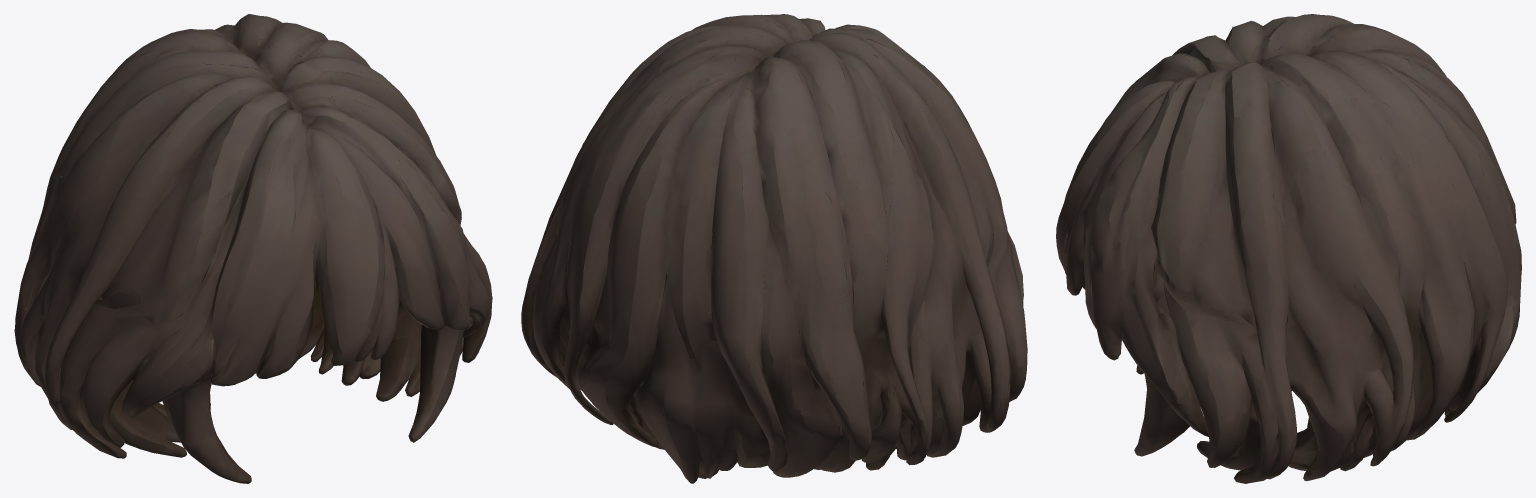
File: hair_f02.glb
3 views of the same model, side by side, from view 1: azimuth 30°, elevation 25°; view 2: azimuth 150°, elevation 25°; view 3: azimuth 270°, elevation 25° (orthographic). The views are drawn at different scales.
Parts seen in each view (by area): view 1: hair; view 2: hair; view 3: hair.
Part boxes in pixels (<box>): hair: <box>14,14,492,483</box>; hair: <box>521,14,1027,483</box>; hair: <box>1056,14,1521,483</box>.
Size of the model in its own units: 2.63 by 2.18 by 2.41.
Materials: 1 (1 with a texture image).
